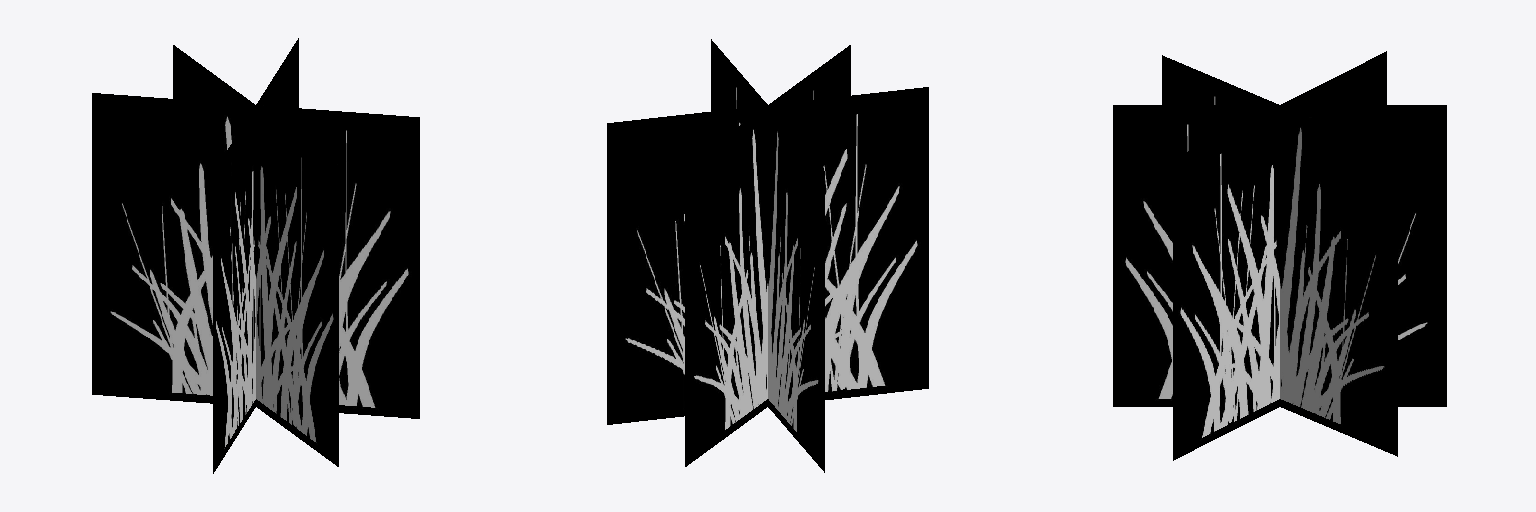
3 views of the same model, side by side, from view 1: azimuth 30°, elevation 25°; view 2: azimuth 150°, elevation 25°; view 3: azimuth 270°, elevation 25° (orthographic).
Visible parts, largest first — view 1: Plane.004_Plane.006; view 2: Plane.004_Plane.006; view 3: Plane.004_Plane.006.
Part boxes in pixels (left/top/right/bottom): Plane.004_Plane.006: left=92, top=38, right=419, bottom=473; Plane.004_Plane.006: left=607, top=39, right=928, bottom=472; Plane.004_Plane.006: left=1113, top=51, right=1446, bottom=460.
Size of the model in its own units: 1.53 by 2 by 2.
1 materials, 1 textured.